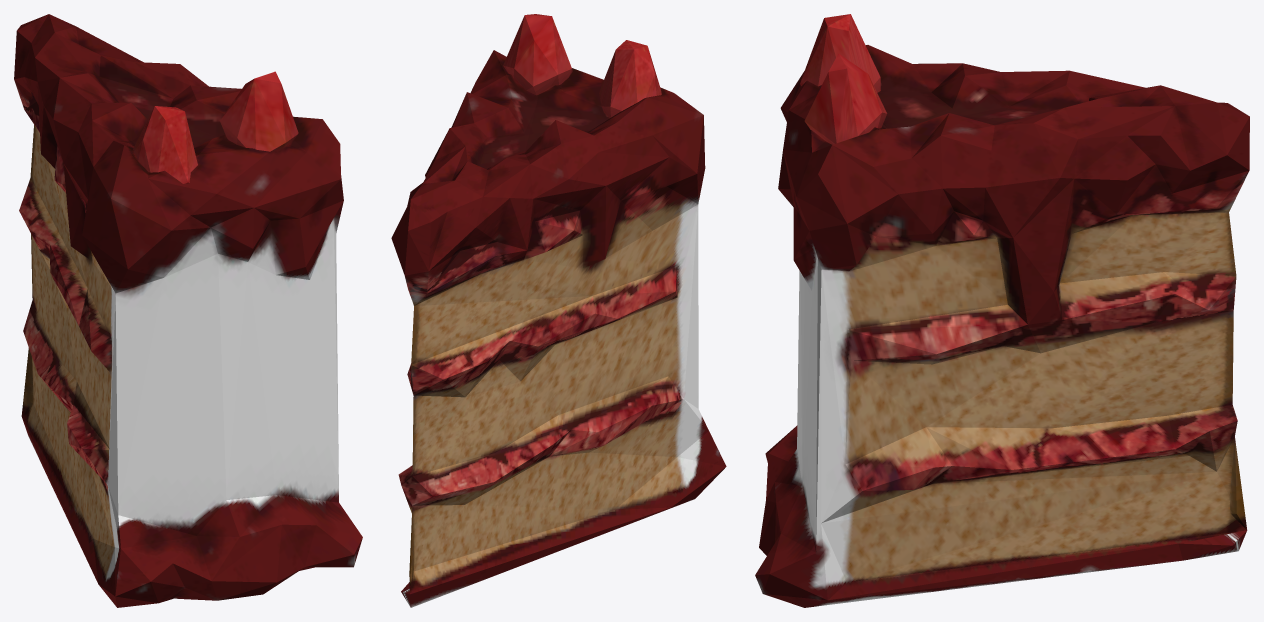
The model's file is SM_CakeB.fbx.
The picture shows the model from 3 angles, left to right: view 1: azimuth 30°, elevation 25°; view 2: azimuth 150°, elevation 25°; view 3: azimuth 270°, elevation 25°; orthographic projection. The views are drawn at different scales.
Visible parts, largest first — view 1: SM_CakeB; view 2: SM_CakeB; view 3: SM_CakeB.
Part boxes in pixels (bbox=[...]): SM_CakeB: bbox=[14, 14, 362, 607]; SM_CakeB: bbox=[391, 14, 726, 607]; SM_CakeB: bbox=[755, 14, 1249, 607].
Size of the model in its own units: 8.63 by 15.84 by 13.7.
